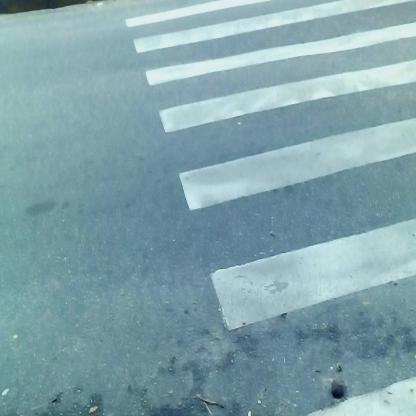crosswalk: (118, 10, 416, 380)
